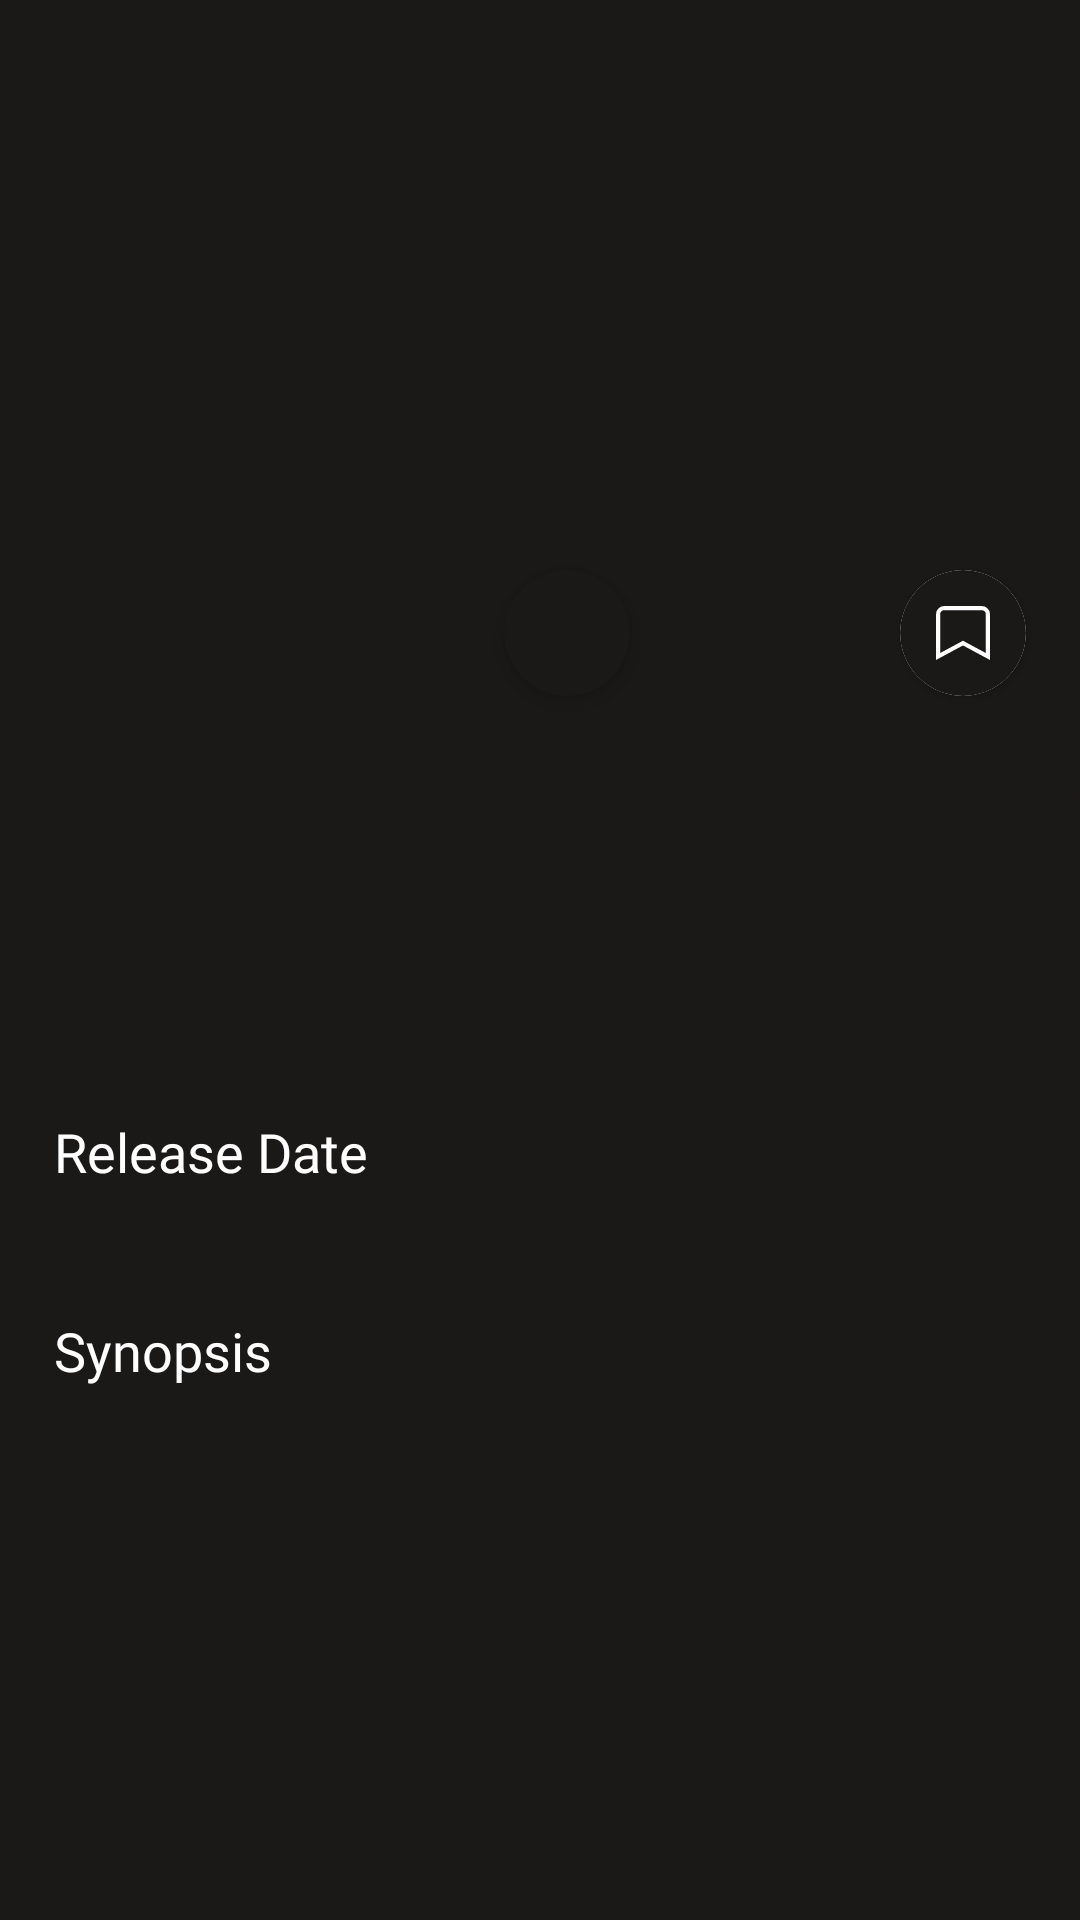

Screen size 1080×1920. Icon name, then its box in pixels as (x1, y1, x2, y2):
watchlist: (936, 606, 990, 660)
